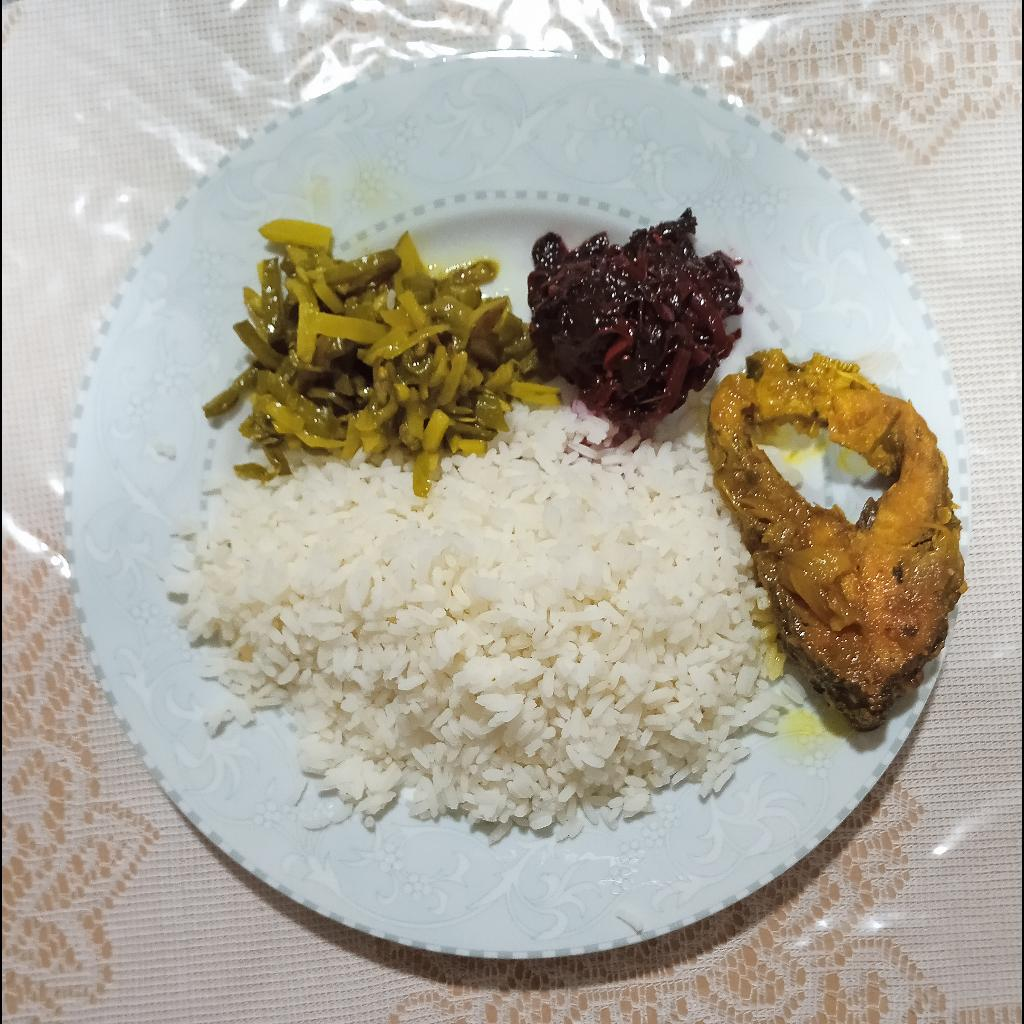fish: (705, 343, 972, 729)
rice: (164, 414, 799, 841)
shak: (520, 214, 749, 432)
vegetable: (197, 213, 569, 498)
